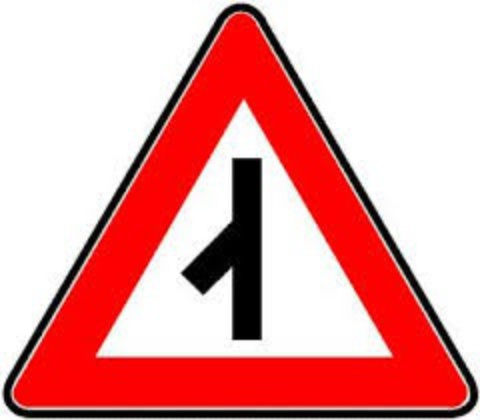Fork_road: (1, 1, 480, 419)
